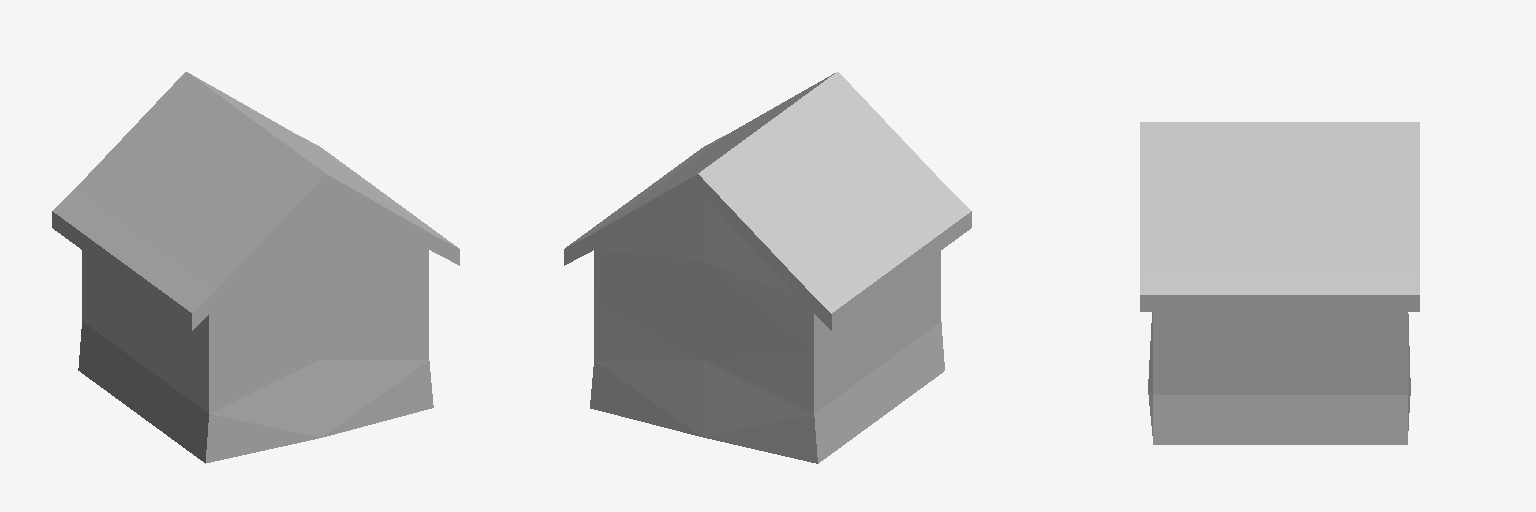
Rendered from simple-house.obj.
3 views of the same model, side by side, from view 1: azimuth 30°, elevation 25°; view 2: azimuth 150°, elevation 25°; view 3: azimuth 270°, elevation 25° (orthographic).
Visible parts, largest first — view 1: Cube; view 2: Cube; view 3: Cube.
Boxes of the visible parts, x1=… form: Cube: x1=52, y1=72, x2=459, y2=463; Cube: x1=564, y1=72, x2=971, y2=463; Cube: x1=1140, y1=122, x2=1419, y2=444.
Size of the model in its own units: 2.43 by 2.32 by 2.2.